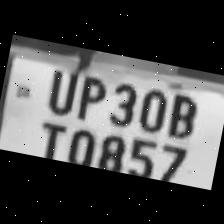0: (130, 80, 172, 135), (62, 120, 102, 164)
3: (100, 73, 141, 128)
5: (122, 132, 161, 178)
7: (152, 137, 190, 181)
8: (94, 127, 128, 170)
B: (162, 86, 202, 141)
P: (70, 68, 111, 124)
T: (29, 113, 70, 158)
U: (38, 61, 80, 116)
